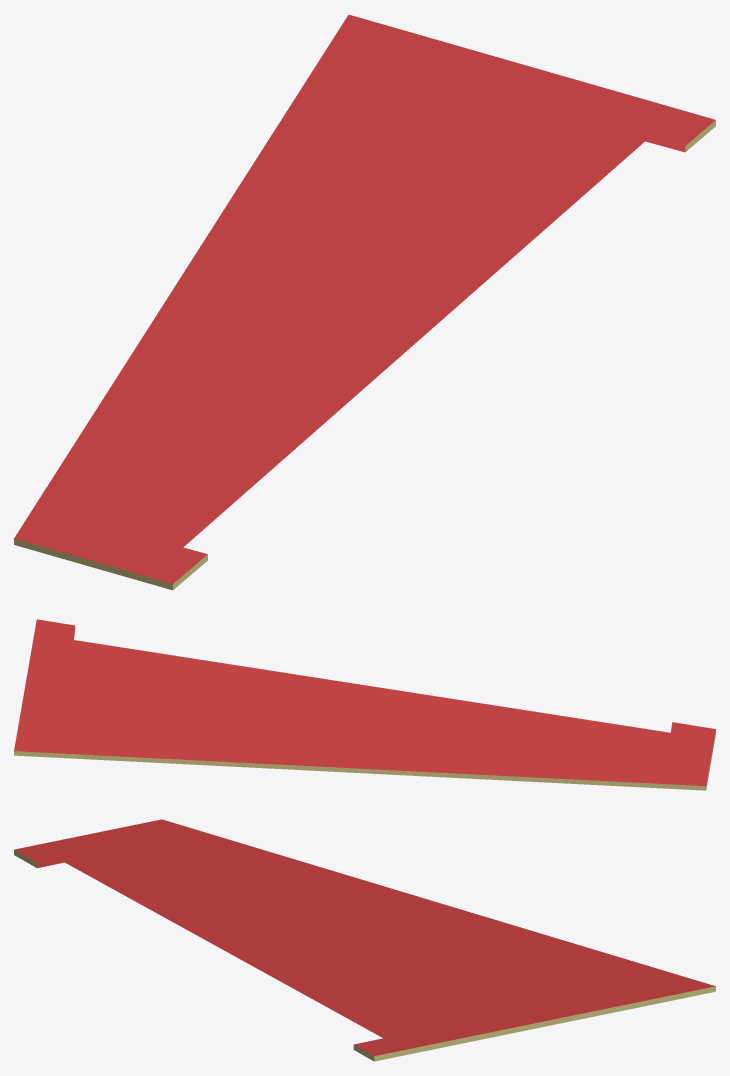
3 renders of one model, top to bottom at view 1: azimuth 30°, elevation 25°; view 2: azimuth 150°, elevation 25°; view 3: azimuth 270°, elevation 25°, orthographic. The views are drawn at different scales.
Size of the model in its own units: 13.61 by 11.71 by 2.09.
